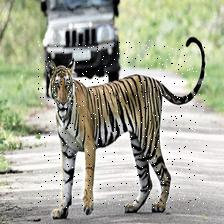tiger: (38, 39, 207, 210)
